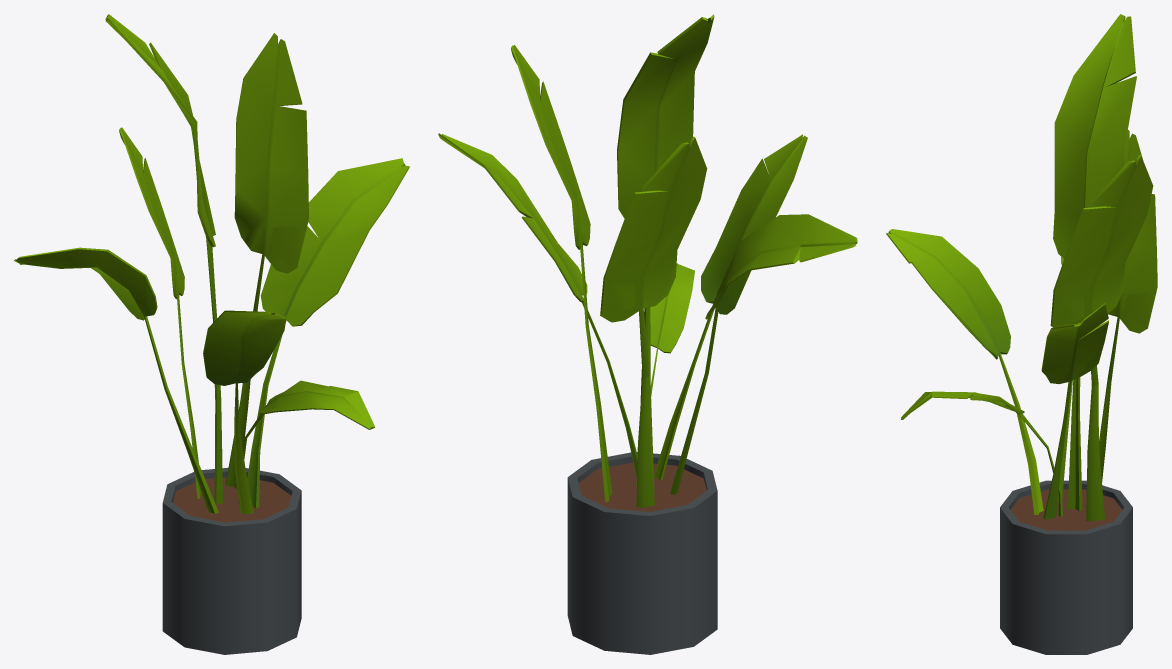
File: SM_Props_Plant_05.fbx
3 renders of one model, left to right at view 1: azimuth 30°, elevation 25°; view 2: azimuth 150°, elevation 25°; view 3: azimuth 270°, elevation 25°, orthographic. The views are drawn at different scales.
Parts seen in each view (by area): view 1: SM_Props_Plant_05; view 2: SM_Props_Plant_05; view 3: SM_Props_Plant_05.
Boxes of the visible parts, left/top/right/bottom form: SM_Props_Plant_05: left=14, top=14, right=409, bottom=654; SM_Props_Plant_05: left=438, top=14, right=857, bottom=654; SM_Props_Plant_05: left=886, top=14, right=1157, bottom=654.
Size of the model in its own units: 1.42 by 2.11 by 0.9095.
